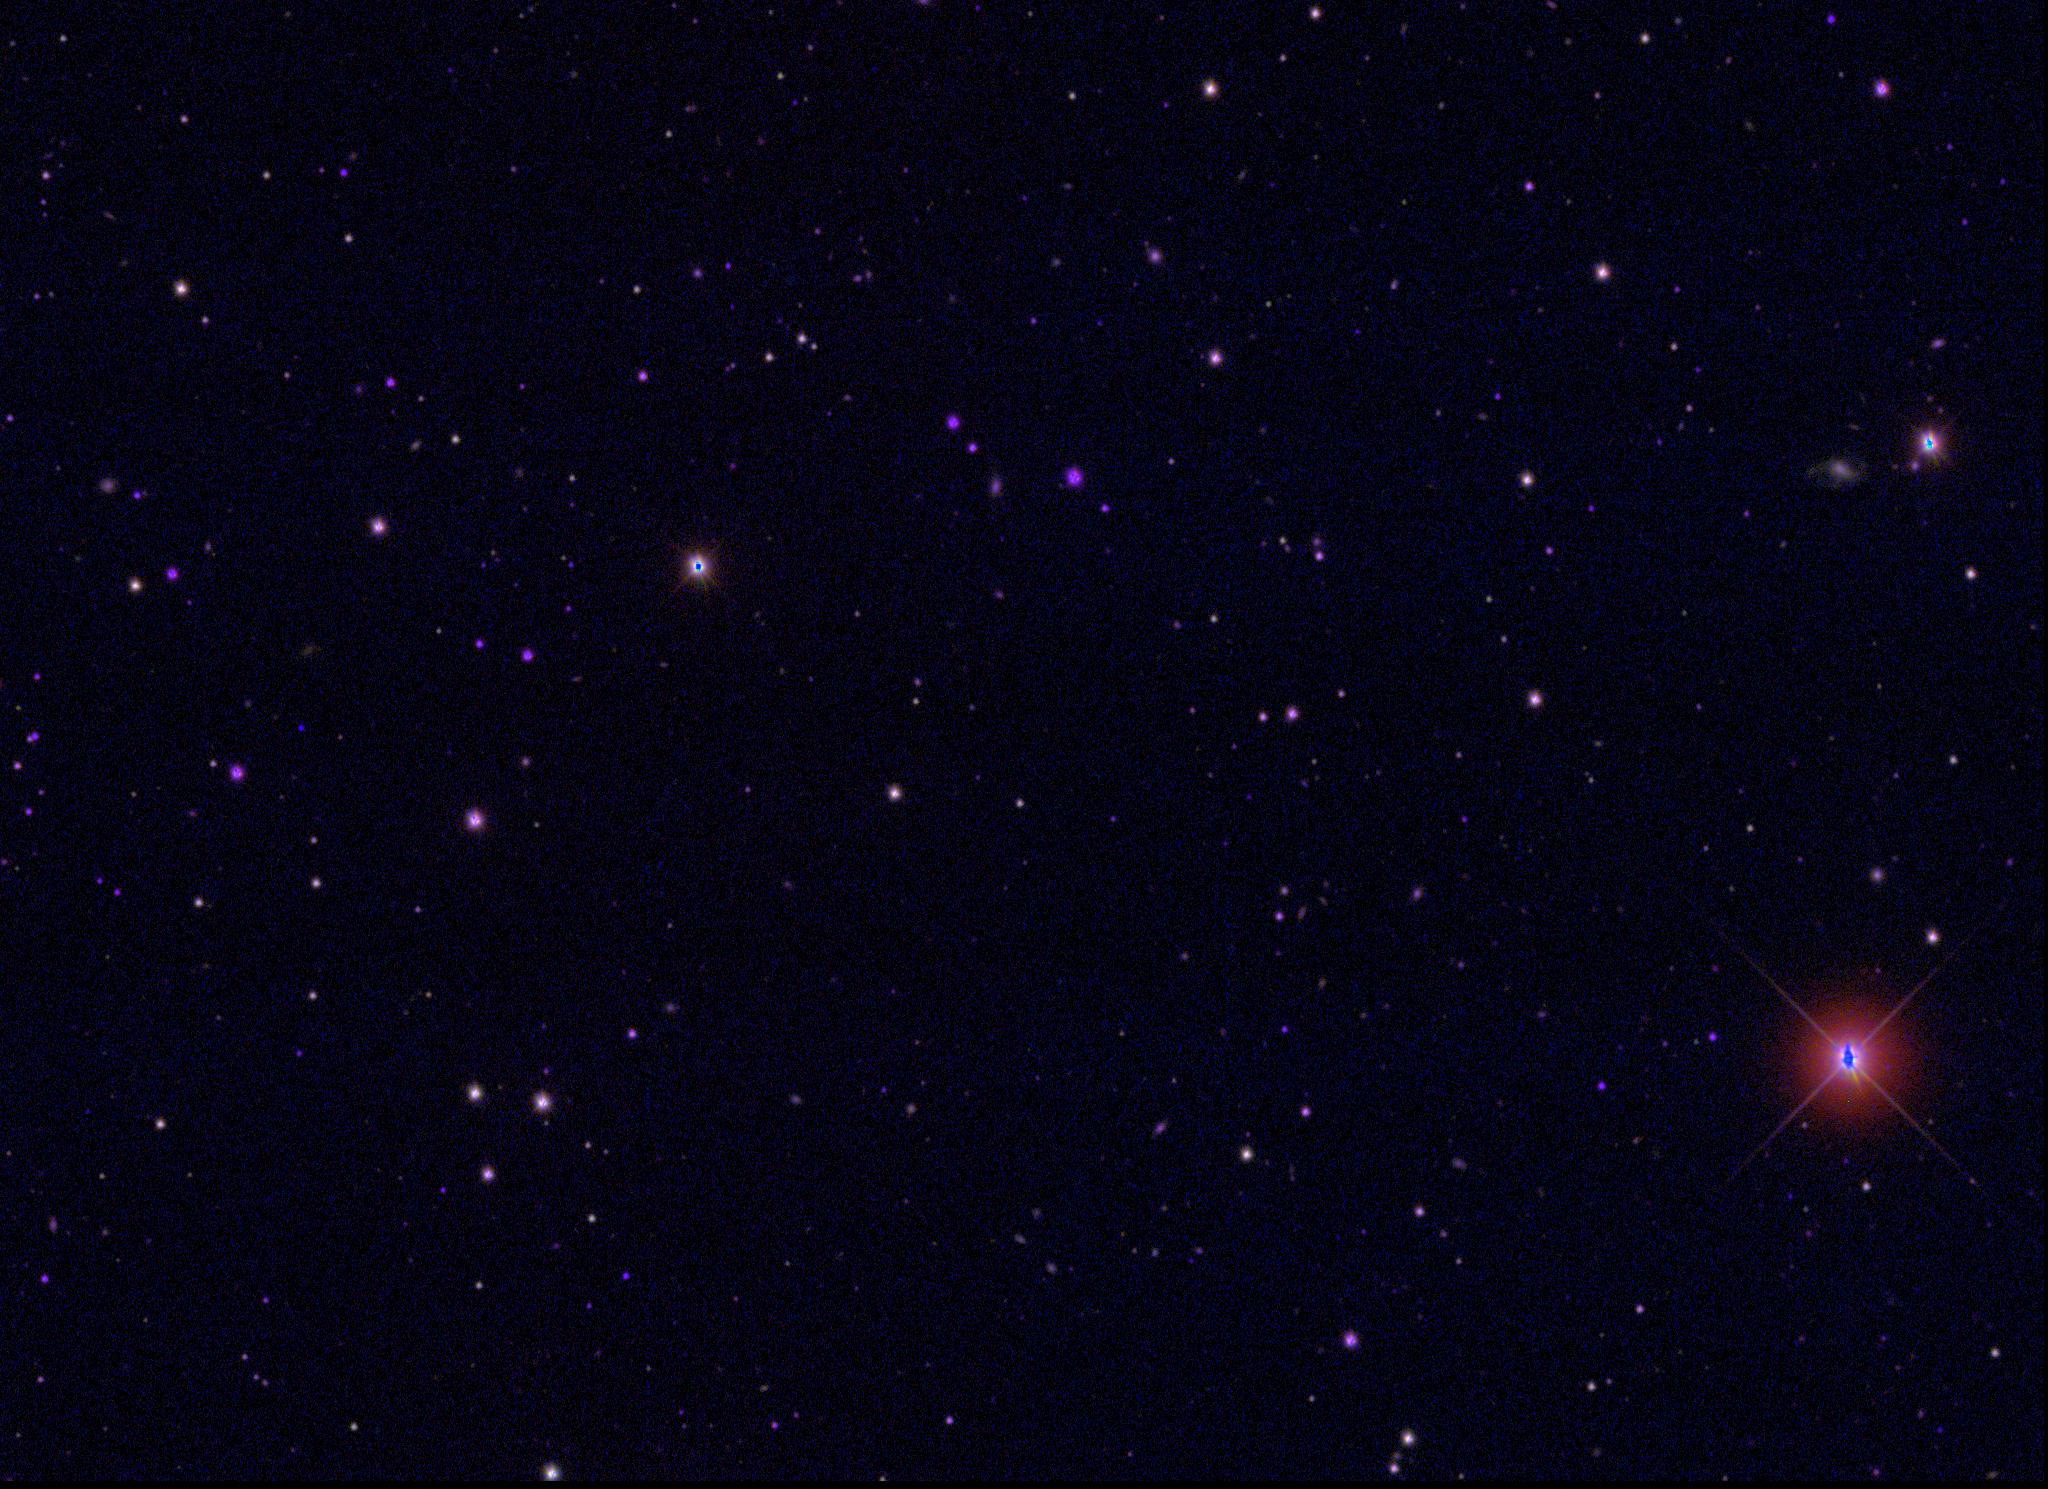L: (294, 721, 308, 735)
